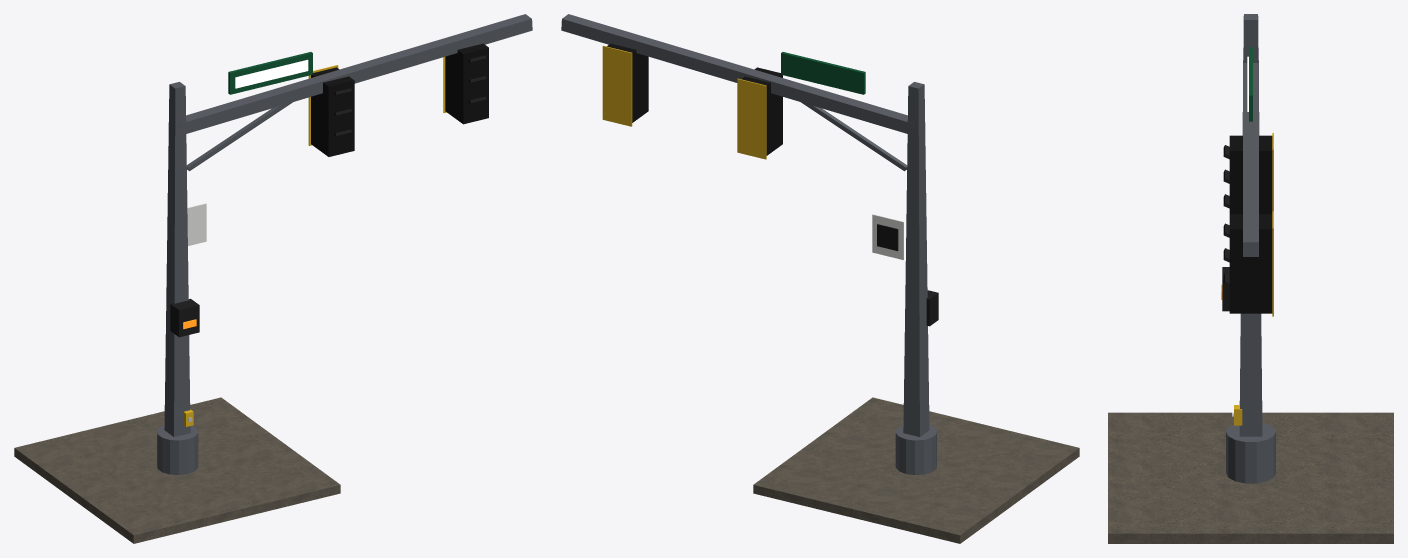
The model's file is OT_TrafficLight.glb.
The picture shows the model from 3 angles, left to right: view 1: azimuth 30°, elevation 25°; view 2: azimuth 150°, elevation 25°; view 3: azimuth 270°, elevation 25°; orthographic projection. The views are drawn at different scales.
Visible parts, largest first — view 1: OT_TrafficLight_Sidewalk, OT_TrafficLight_MastGrey__5a5f66, OT_TrafficLight_Backplate__121212, OT_TrafficLight_SignalBody__1c1c1c, OT_TrafficLight_HwyGreen__0f5a35, OT_TrafficLight_SignWhiteGlow__f4f8ff, OT_TrafficLight_SpeedSign__f0f0ee; view 2: OT_TrafficLight_Sidewalk, OT_TrafficLight_MastGrey__5a5f66, OT_TrafficLight_BackBorder__e8b81e, OT_TrafficLight_Backplate__121212, OT_TrafficLight_HwyGreen__0f5a35, OT_TrafficLight_SpeedSign__f0f0ee; view 3: OT_TrafficLight_Sidewalk, OT_TrafficLight_MastGrey__5a5f66, OT_TrafficLight_Backplate__121212, OT_TrafficLight_SignalBody__1c1c1c, OT_TrafficLight_BackBorder__e8b81e.
Boxes of the visible parts, x1,y1,x2,y2 form: OT_TrafficLight_Sidewalk: [14, 397, 340, 543]; OT_TrafficLight_MastGrey__5a5f66: [157, 14, 532, 474]; OT_TrafficLight_Backplate__121212: [311, 43, 488, 156]; OT_TrafficLight_SignalBody__1c1c1c: [170, 55, 486, 337]; OT_TrafficLight_HwyGreen__0f5a35: [228, 52, 312, 94]; OT_TrafficLight_SignWhiteGlow__f4f8ff: [235, 59, 308, 88]; OT_TrafficLight_SpeedSign__f0f0ee: [187, 203, 206, 245]; OT_TrafficLight_Sidewalk: [753, 397, 1079, 543]; OT_TrafficLight_MastGrey__5a5f66: [561, 14, 936, 474]; OT_TrafficLight_BackBorder__e8b81e: [602, 45, 766, 159]; OT_TrafficLight_Backplate__121212: [607, 43, 782, 155]; OT_TrafficLight_HwyGreen__0f5a35: [781, 52, 865, 94]; OT_TrafficLight_SpeedSign__f0f0ee: [872, 214, 903, 259]; OT_TrafficLight_Sidewalk: [1108, 412, 1393, 543]; OT_TrafficLight_MastGrey__5a5f66: [1226, 14, 1275, 483]; OT_TrafficLight_Backplate__121212: [1229, 135, 1272, 313]; OT_TrafficLight_SignalBody__1c1c1c: [1222, 145, 1229, 311]; OT_TrafficLight_BackBorder__e8b81e: [1272, 133, 1273, 316].
Bounding box in the file's own units: 8.8 × 7.2 × 4.
15 materials, 1 textured.
